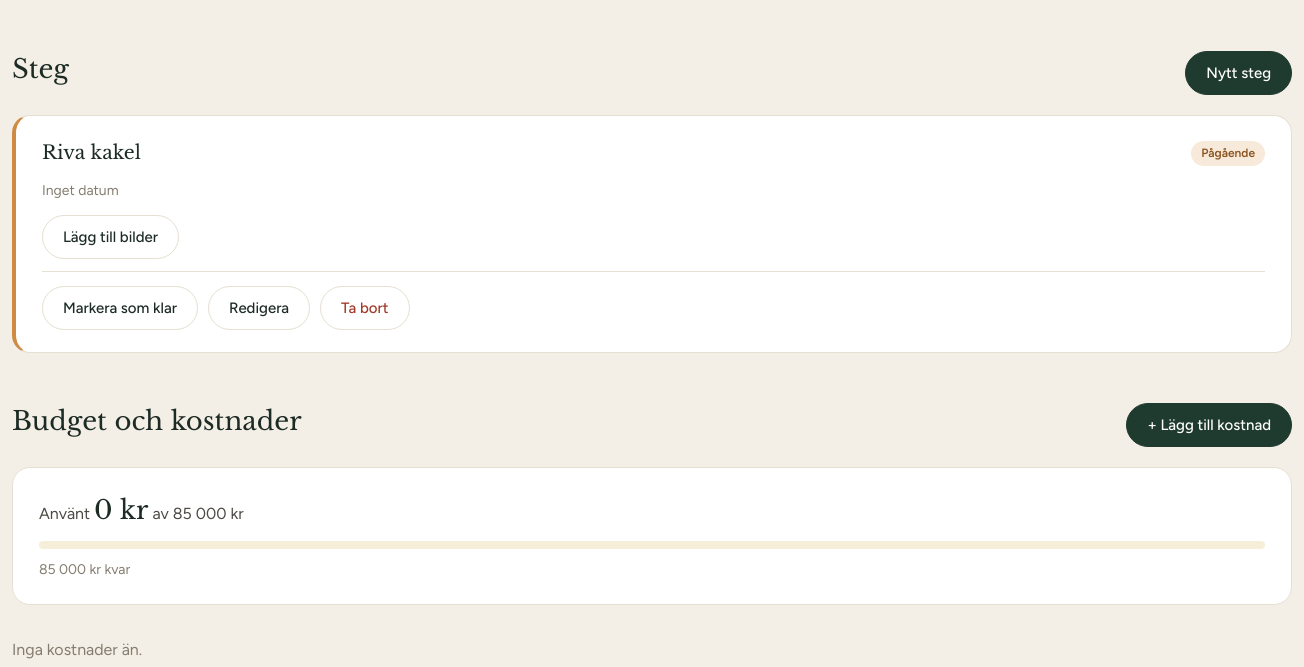
ProjectDetail: steps › updates a step in the list when its status changes
(page scrolled)
Expected: the heading "Riva kakel" is shown, [42,138,141,168]
Click the button "Markera som klar". click: (120, 308)
box: [42,286,198,330]
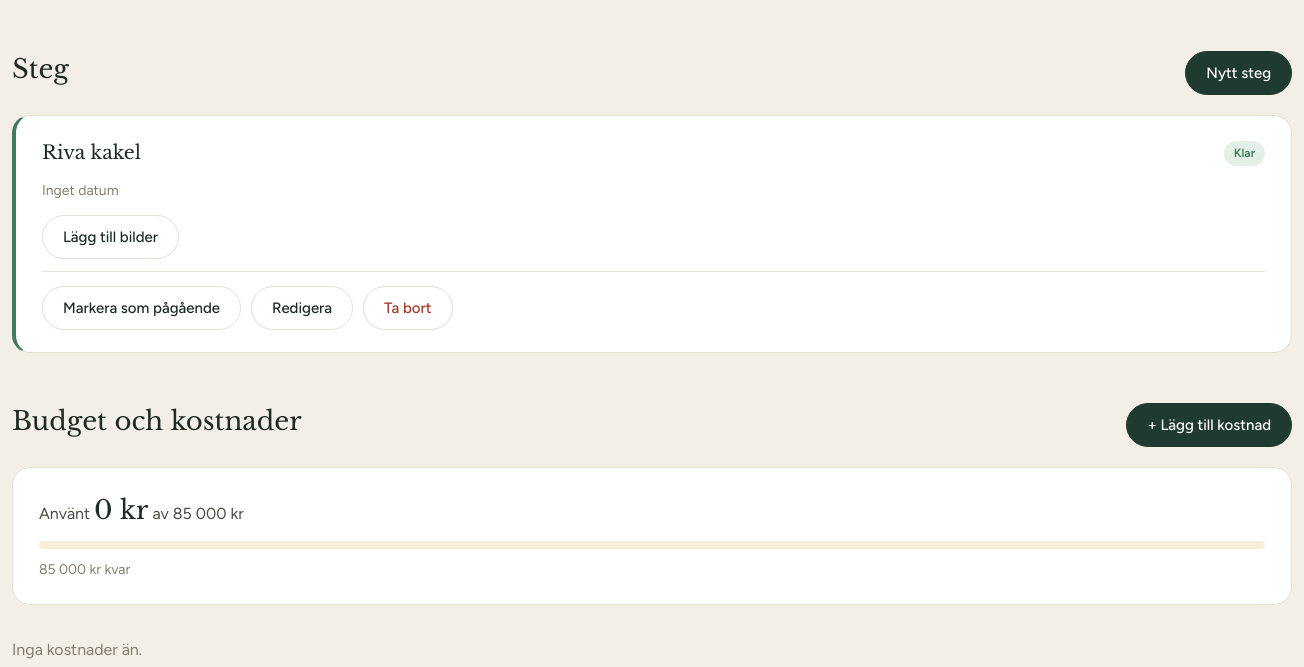
Expected: the button "Markera som pågående" is shown, [42,286,241,330]
